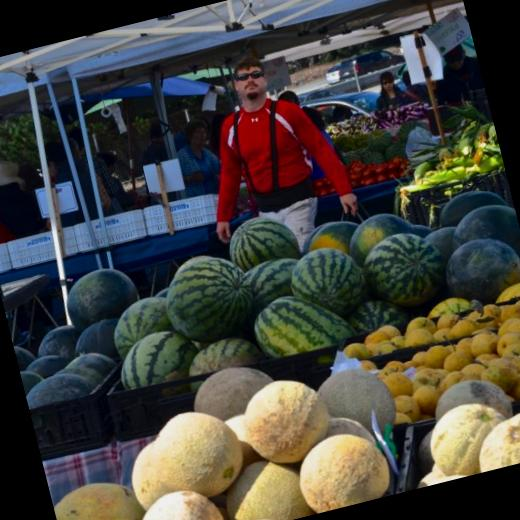Cherry: (0, 155, 520, 421), (340, 120, 434, 169)
